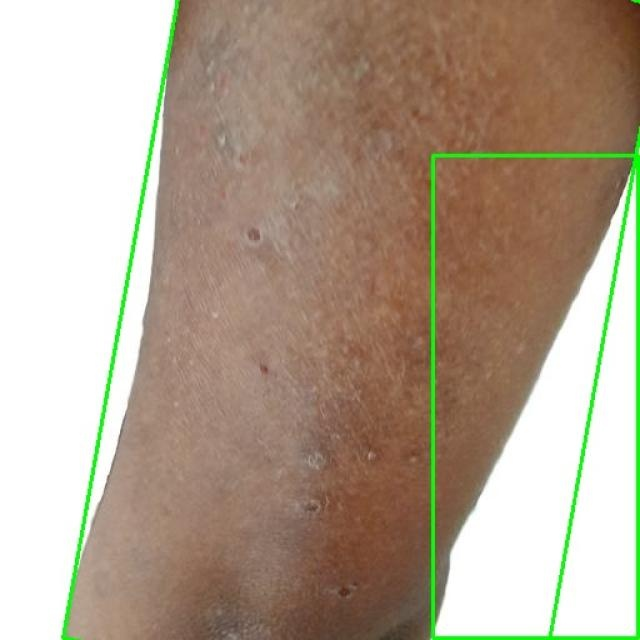Contact Dermatitis: (63, 0, 640, 640), (434, 155, 639, 639)
